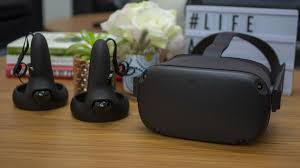oculus: (136, 51, 281, 152)
